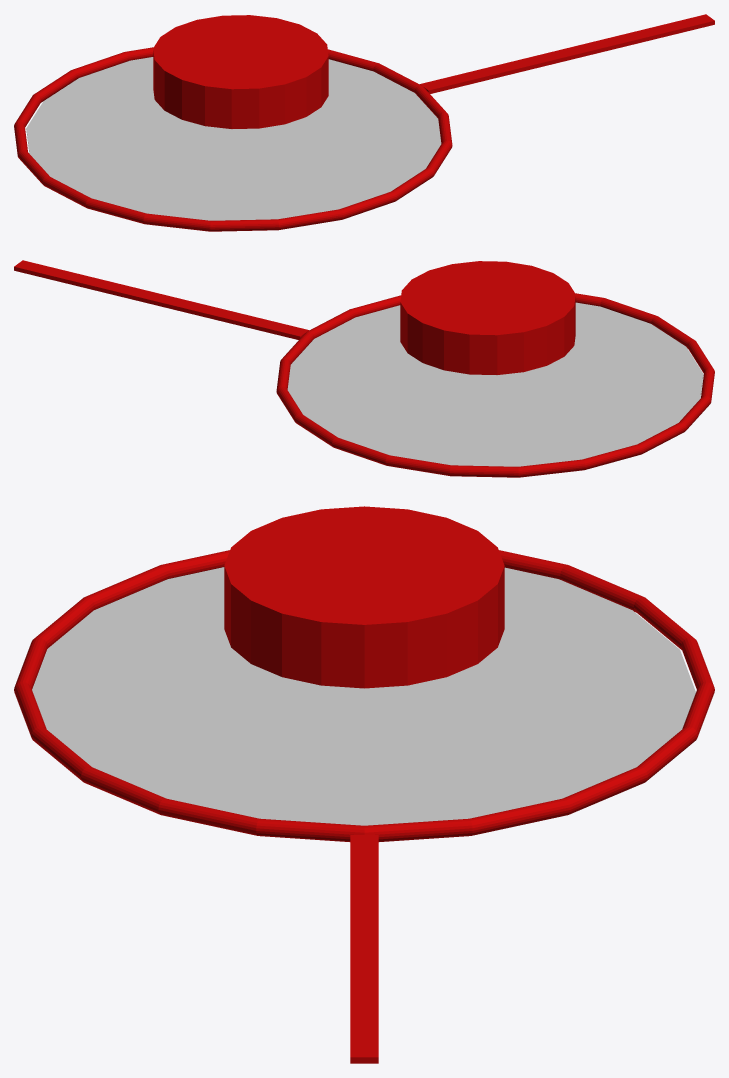
File: poikingyo.obj
3 views of the same model, one above another, from view 1: azimuth 30°, elevation 25°; view 2: azimuth 150°, elevation 25°; view 3: azimuth 270°, elevation 25° (orthographic). The views are drawn at different scales.
Bounding box in the file's own units: 350 × 43.5 × 200.
